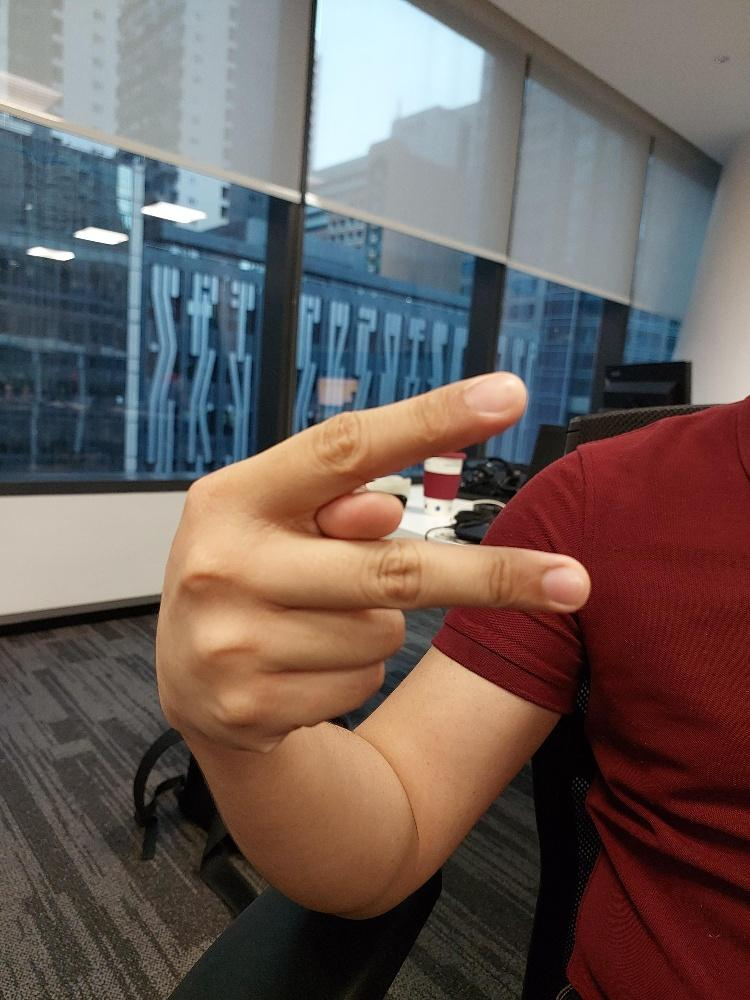k: (151, 368, 591, 756)
